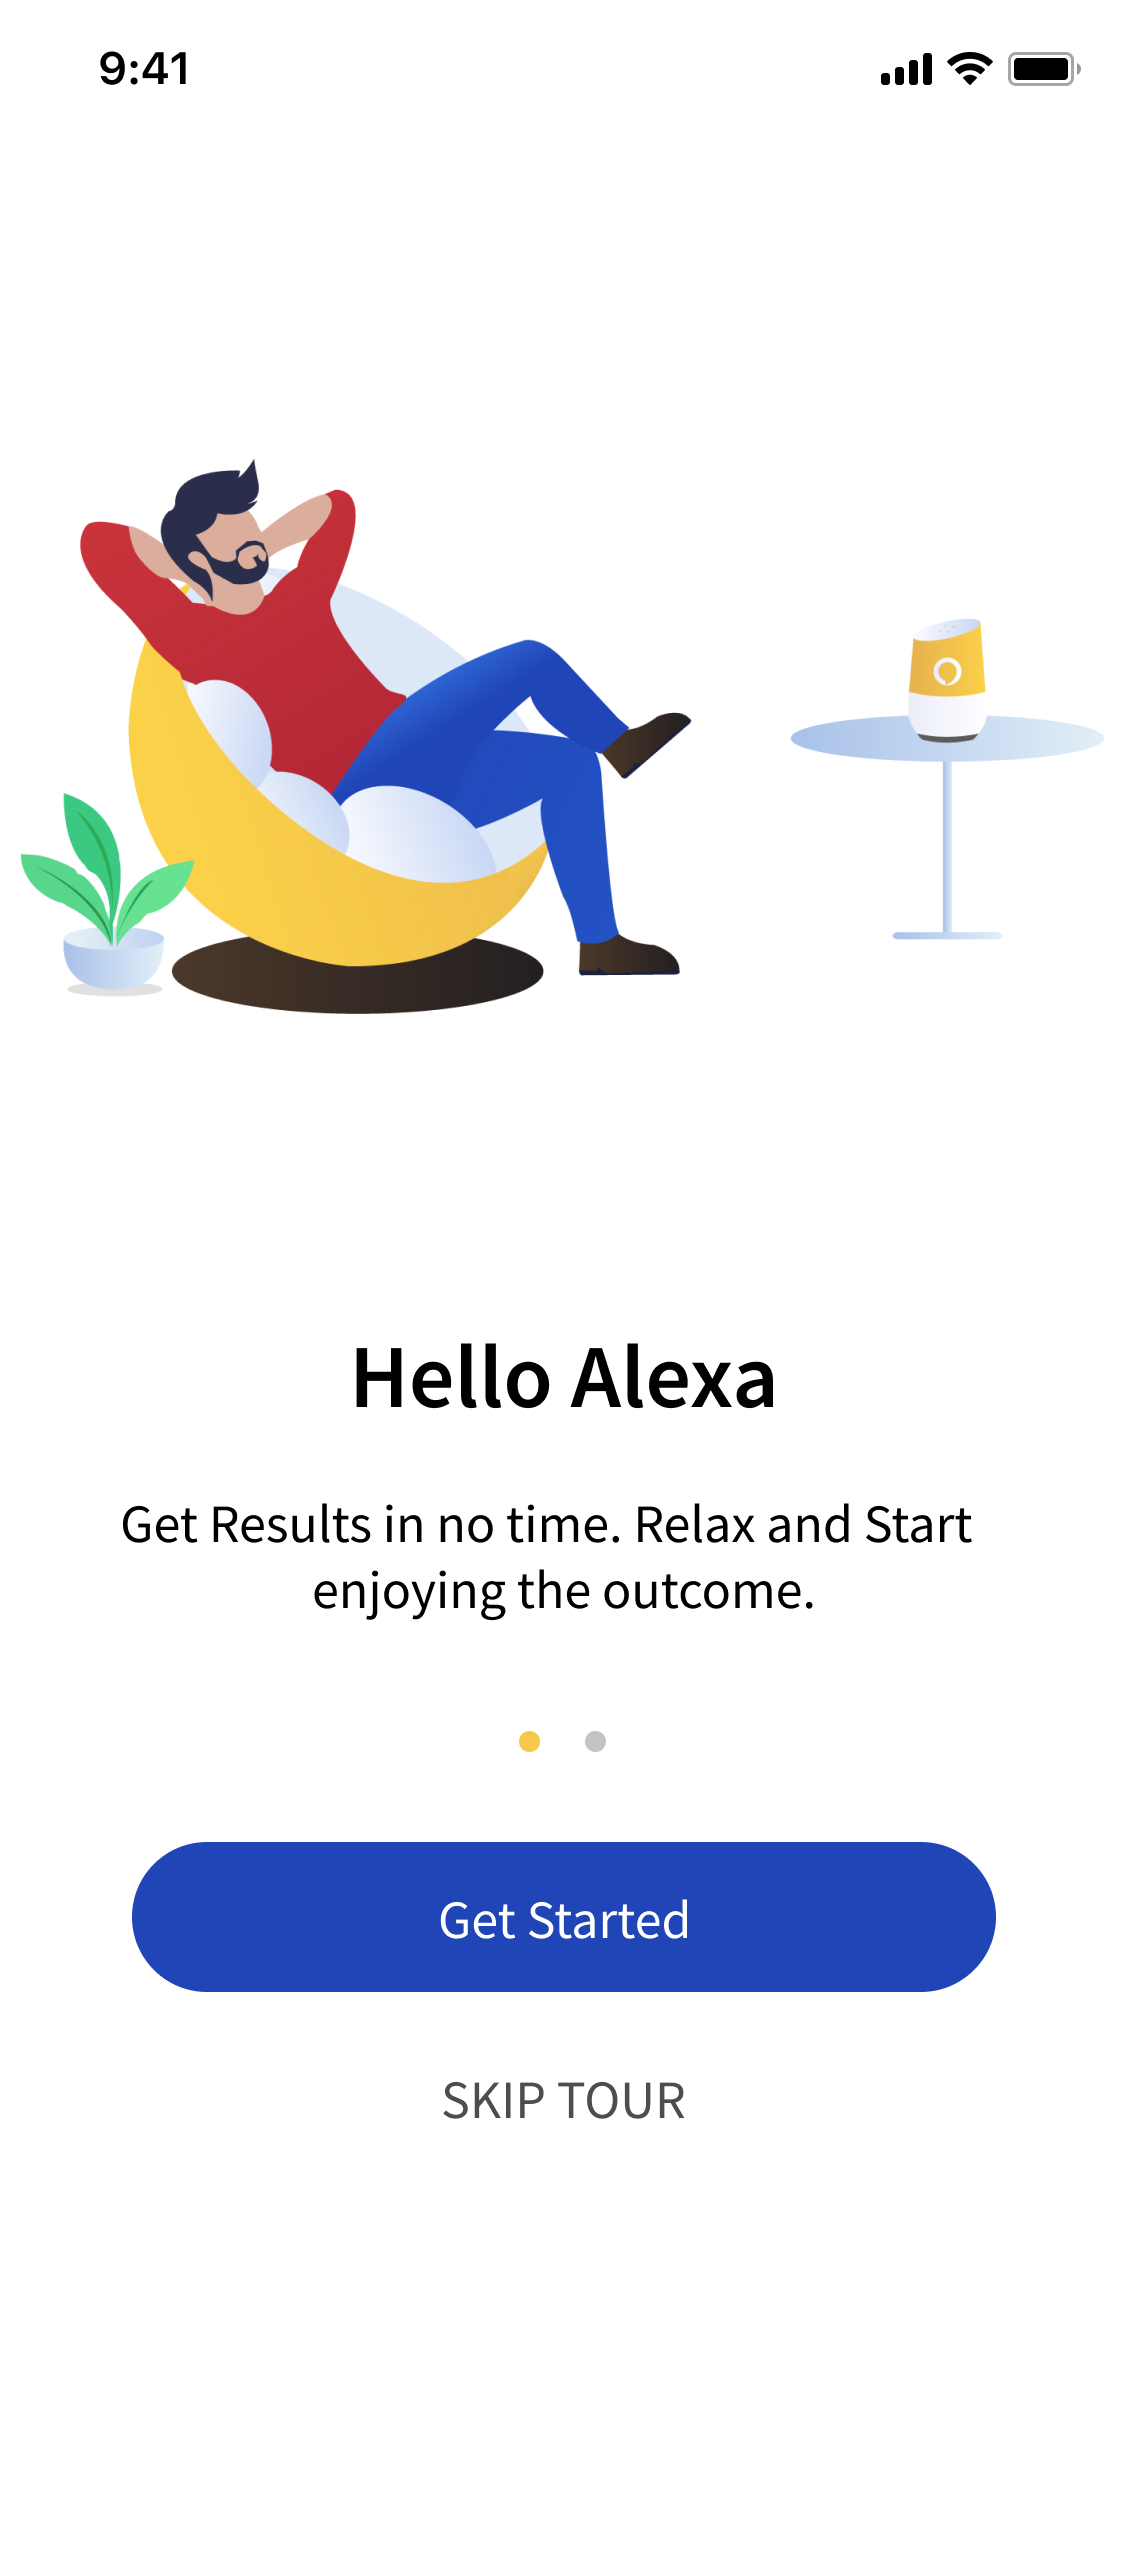Image: (20, 458, 1105, 1016)
PageIndicator: (518, 1730, 608, 1754)
Text: (122, 1501, 973, 1622), (355, 1342, 776, 1410), (443, 2082, 686, 2121)
TextButton: (132, 1840, 996, 1994)
UpperTaskBar: (99, 51, 1083, 88)
